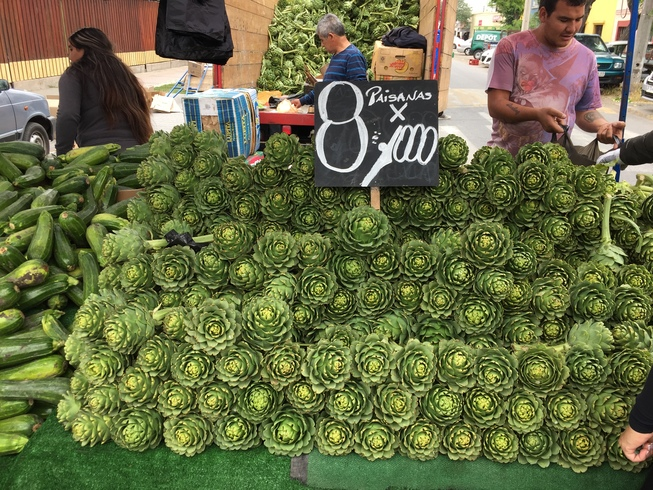precio: (312, 78, 442, 191)
